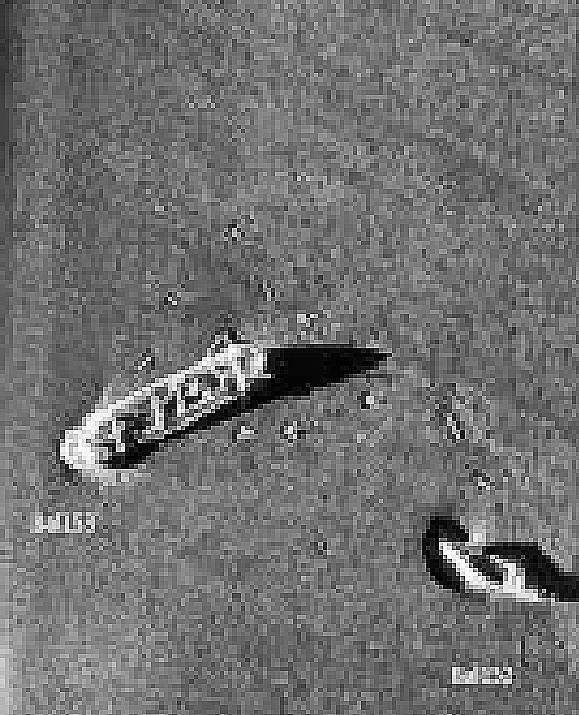ship: (53, 340, 277, 464), (433, 533, 552, 607)
